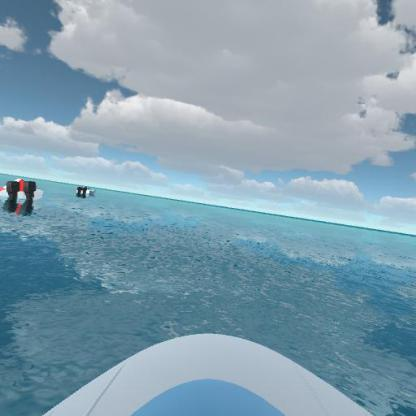usv1: (72, 180, 98, 202)
usv3: (0, 172, 49, 208)
